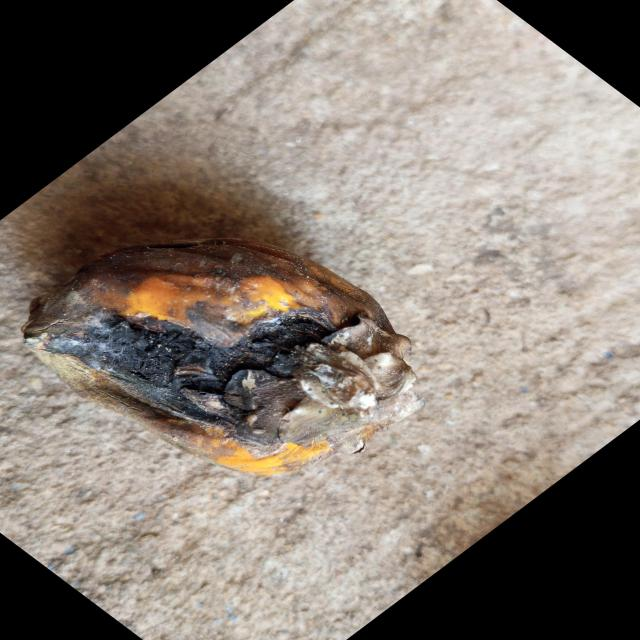damaged: (23, 239, 415, 463)
